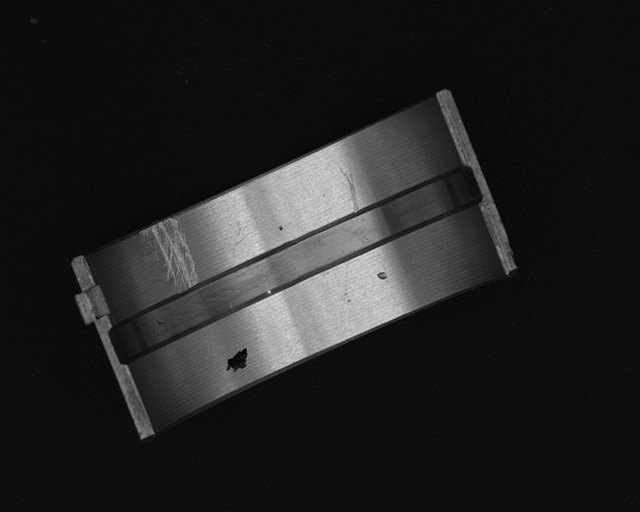blot: (224, 347, 249, 372)
bruise: (377, 271, 388, 280), (278, 226, 283, 233)
gap: (112, 165, 484, 364)
nick: (338, 164, 359, 213)
scratch: (140, 218, 197, 289)
